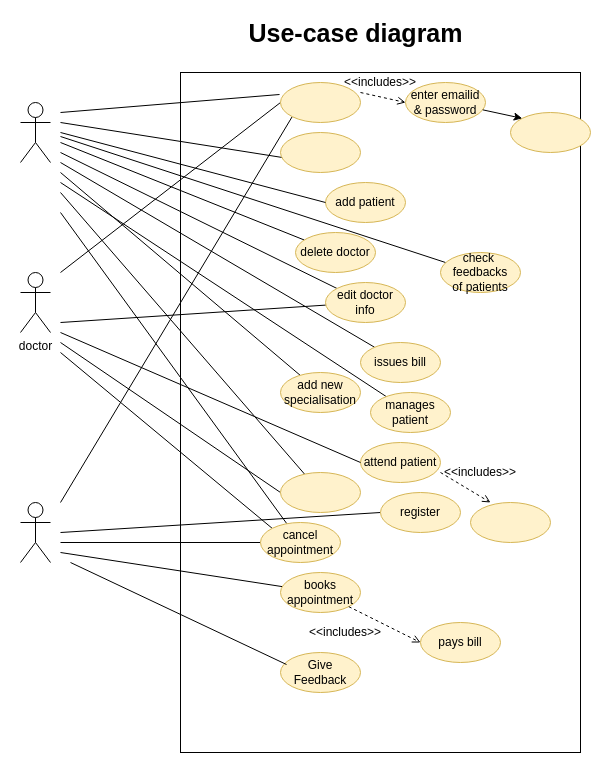
The diagram is 608 pixels wide and 770 high, and some of its shapes have lost their labels. The box of each missing label's shape, as (x1, y1, x2, y2) in pixels:
add doctor: (280, 132, 360, 172)
admin: (20, 102, 50, 162)
Authorise: (510, 112, 590, 152)
login: (280, 82, 360, 122)
patient: (20, 502, 50, 562)
prescribe medicines: (470, 502, 550, 542)
view patient details: (280, 472, 360, 512)
